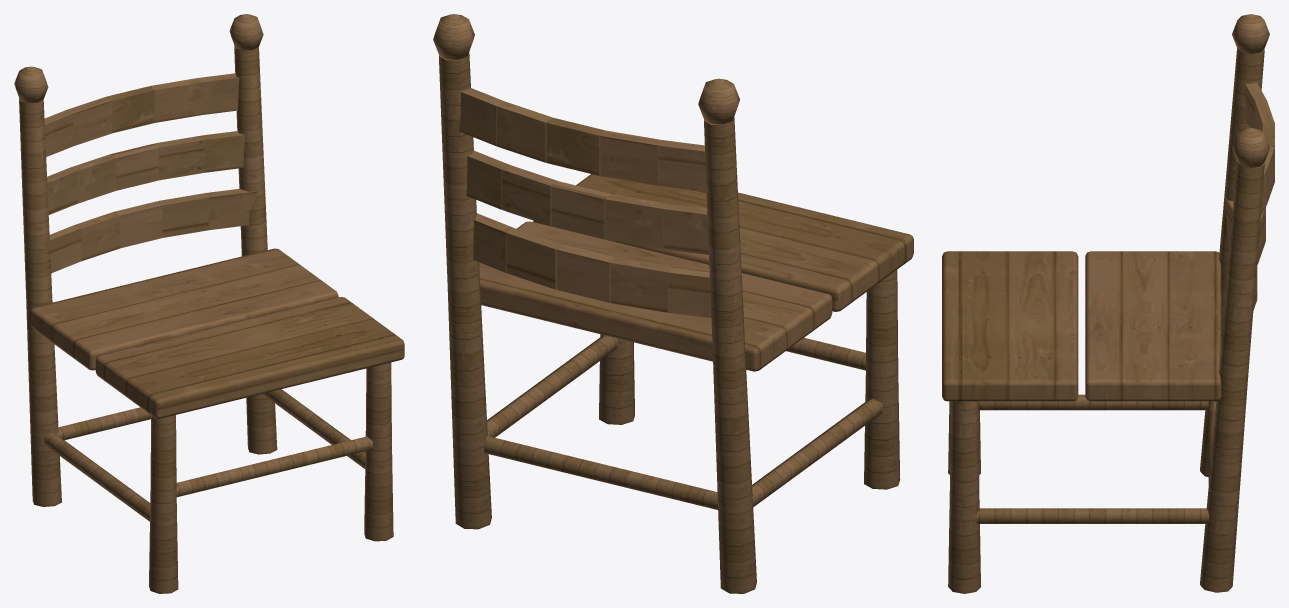
File: prop_chairWood.glb
3 views of the same model, side by side, from view 1: azimuth 30°, elevation 25°; view 2: azimuth 150°, elevation 25°; view 3: azimuth 270°, elevation 25° (orthographic). The views are drawn at different scales.
Parts seen in each view (by area): view 1: prop; view 2: prop; view 3: prop.
Boxes of the visible parts, <box> form: prop: <box>14,14,404,593</box>; prop: <box>433,14,913,593</box>; prop: <box>942,14,1274,593</box>.
Bounding box in the file's own units: 0.36 × 0.584 × 0.3837.
1 material, 1 textured.
